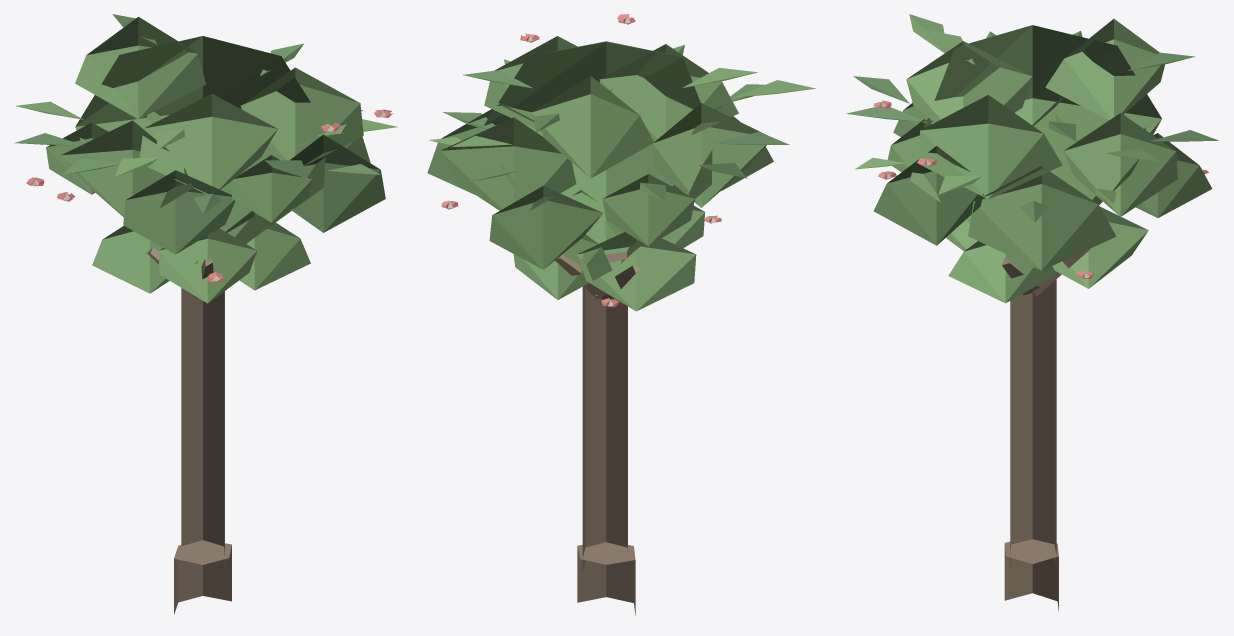
The model's file is shu.mumian__bloom.glb.
3 views of the same model, side by side, from view 1: azimuth 30°, elevation 25°; view 2: azimuth 150°, elevation 25°; view 3: azimuth 270°, elevation 25° (orthographic).
Parts seen in each view (by area): view 1: shu.mumian__bloom; view 2: shu.mumian__bloom; view 3: shu.mumian__bloom.
Boxes of the visible parts, x1,y1,x2,y2 form: shu.mumian__bloom: (14,14,397,614); shu.mumian__bloom: (427,14,815,615); shu.mumian__bloom: (846,14,1218,611).
Bounding box in the file's own units: 18.3 × 30.34 × 17.84.
